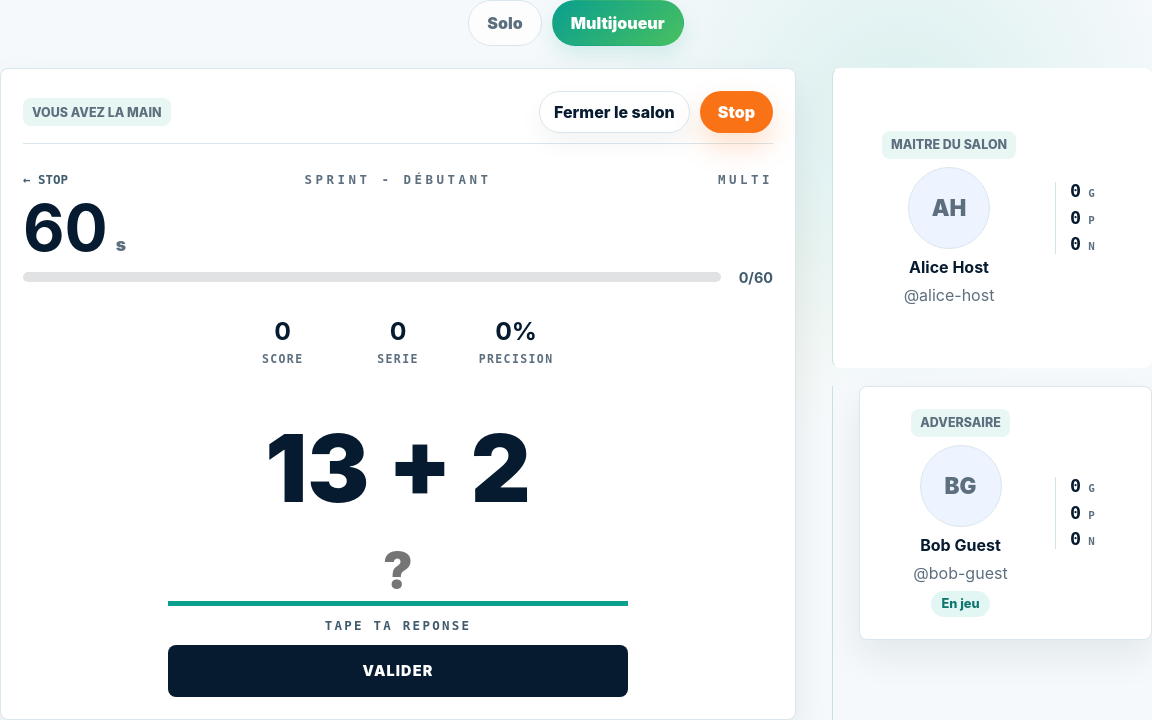
Scenario: MultiplayerGamePage finalization › n'affiche pas l'expiration tardive d'une reponse apres la fin confirmee du defi
The width and height of the screenshot is (1152, 720).
Type "1" into the field named "Votre reponse". click: (398, 572)
box: 168,539 -> 628,606
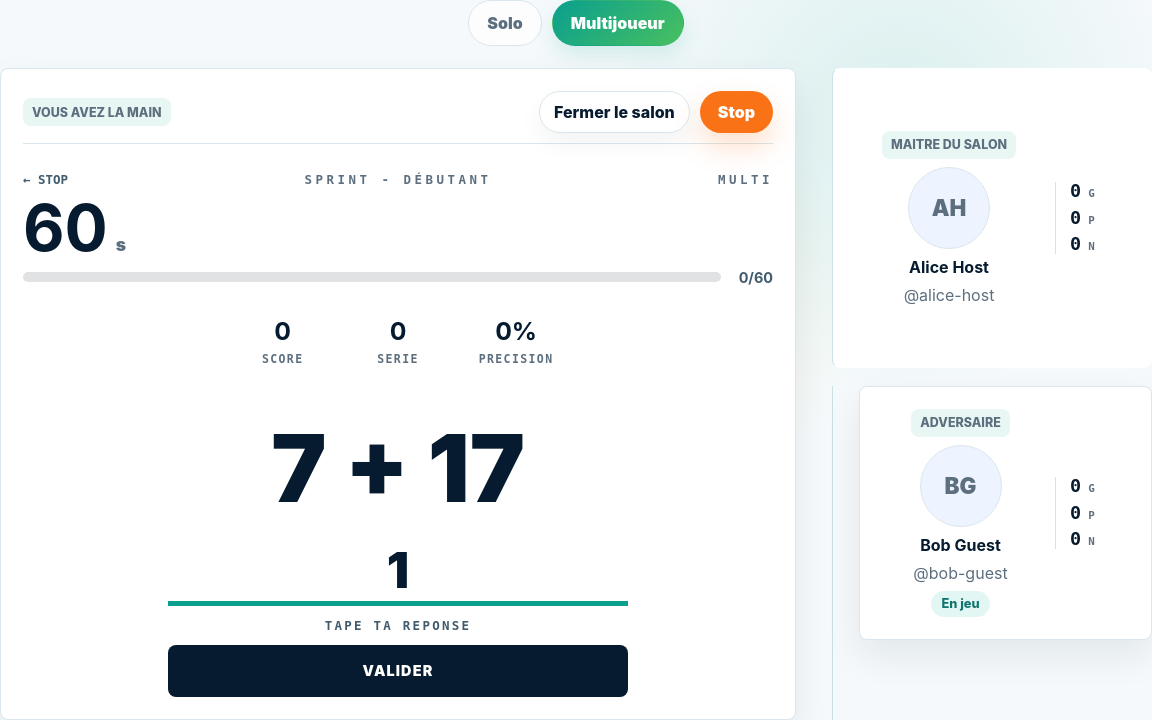
Click the button "Valider". click: (398, 671)
box: 168,645 -> 628,697
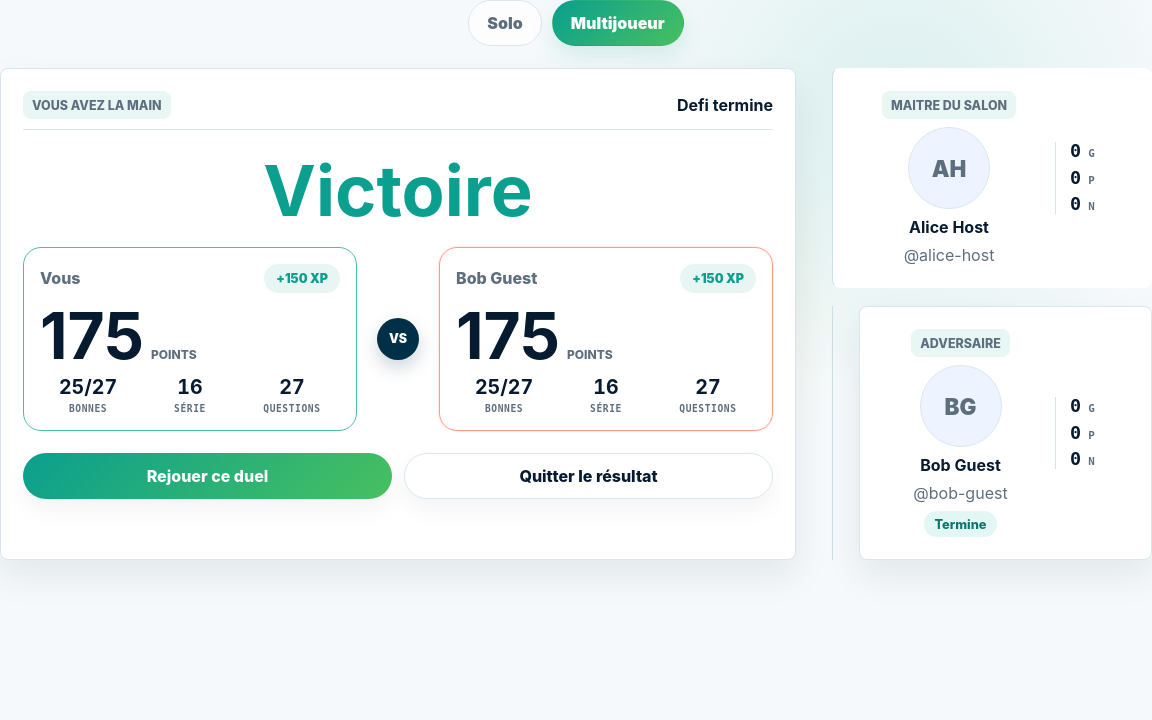
Expected: the text "Victoire" is shown, 263,158 -> 533,225
